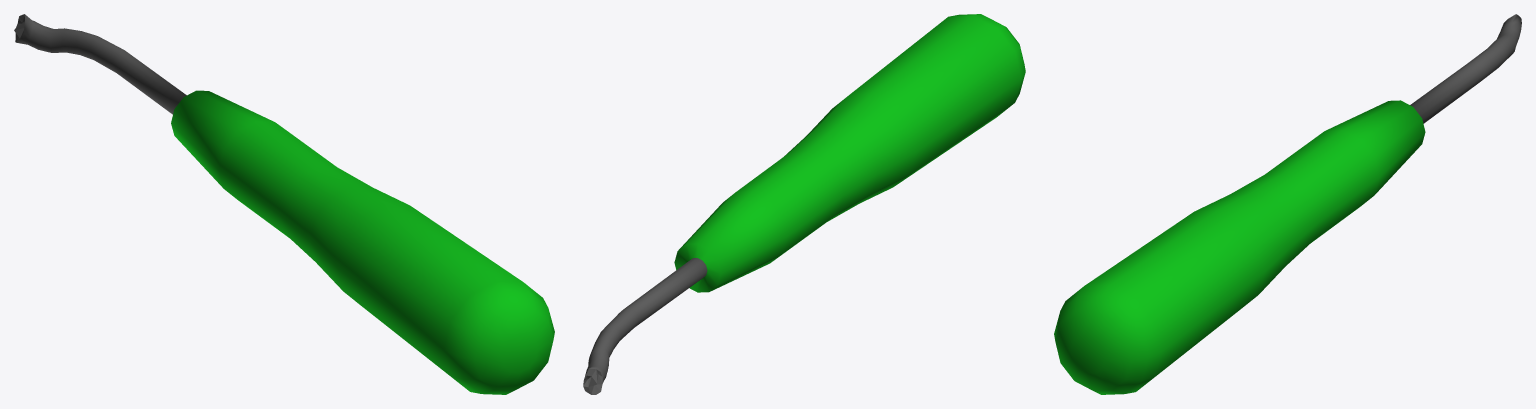
Rendered from brokenScrewdriver.fbx.
3 renders of one model, left to right at view 1: azimuth 30°, elevation 25°; view 2: azimuth 150°, elevation 25°; view 3: azimuth 330°, elevation 25°, orthographic. The views are drawn at different scales.
Visible parts, largest first — view 1: Cube; view 2: Cube; view 3: Cube.
Part boxes in pixels (box(x1,y1,x2,y2)): Cube: box(14, 14, 554, 394); Cube: box(583, 14, 1025, 394); Cube: box(1054, 14, 1521, 394).
Size of the model in its own units: 200 by 200 by 1543.
